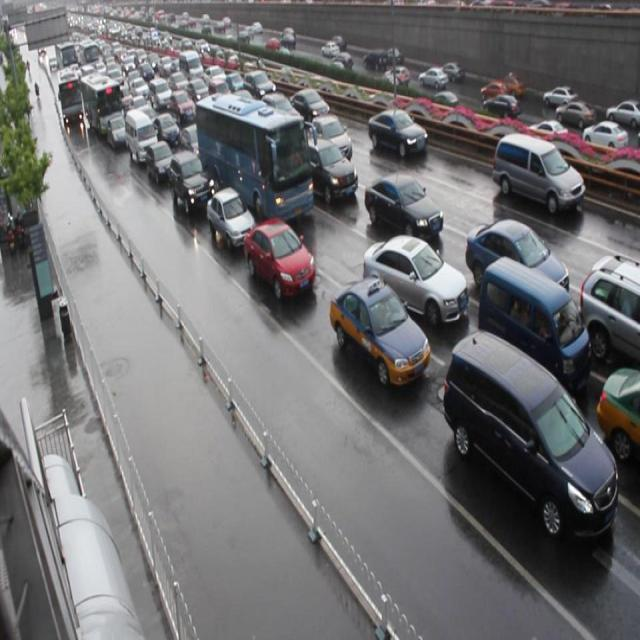car: (329, 280, 429, 392), (362, 236, 467, 329), (463, 221, 568, 309), (579, 259, 640, 372), (245, 220, 312, 299), (363, 175, 442, 241), (594, 370, 640, 461), (305, 139, 358, 206), (206, 189, 256, 250), (367, 108, 427, 156), (170, 150, 215, 213), (307, 119, 352, 170), (288, 86, 328, 126), (146, 142, 175, 184), (153, 112, 179, 148), (179, 125, 204, 162)
truck: (442, 333, 616, 548), (477, 259, 589, 386), (491, 132, 584, 212)
van: (195, 96, 312, 228)
